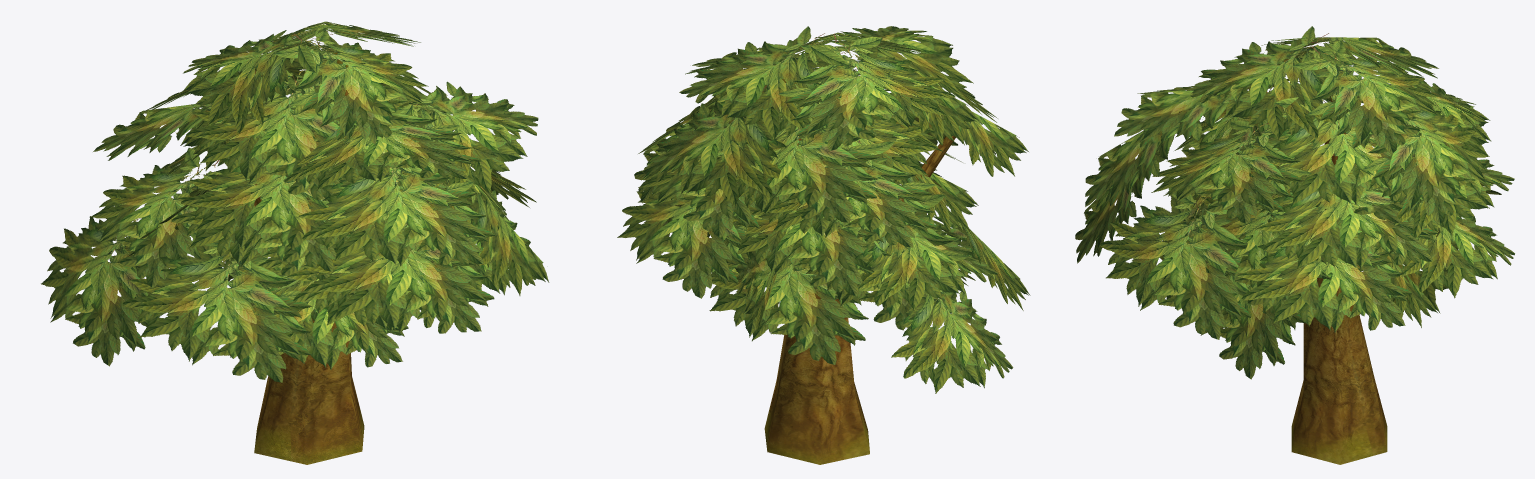
Rendered from obj_macoprtr11.glb.
3 views of the same model, side by side, from view 1: azimuth 30°, elevation 25°; view 2: azimuth 150°, elevation 25°; view 3: azimuth 270°, elevation 25° (orthographic). The views are drawn at different scales.
Visible parts, largest first — view 1: part_0; view 2: part_0; view 3: part_0.
Boxes of the visible parts, bbox=[...] form: part_0: bbox=[41, 21, 549, 464]; part_0: bbox=[617, 26, 1030, 464]; part_0: bbox=[1075, 26, 1514, 464].
Size of the model in its own units: 10.47 by 9.71 by 9.87.
2 materials, 2 textured.
